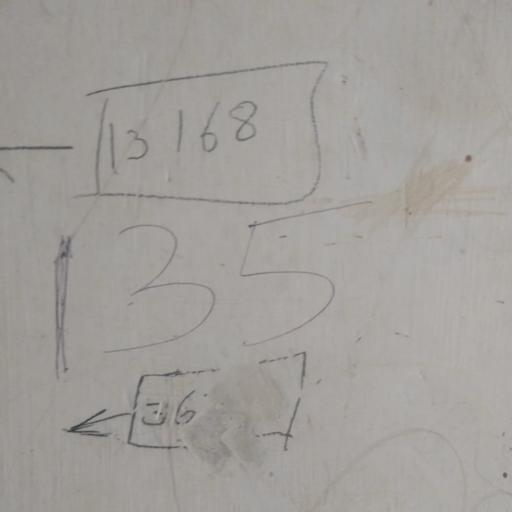stain: (0, 36, 380, 461), (305, 427, 478, 512)
